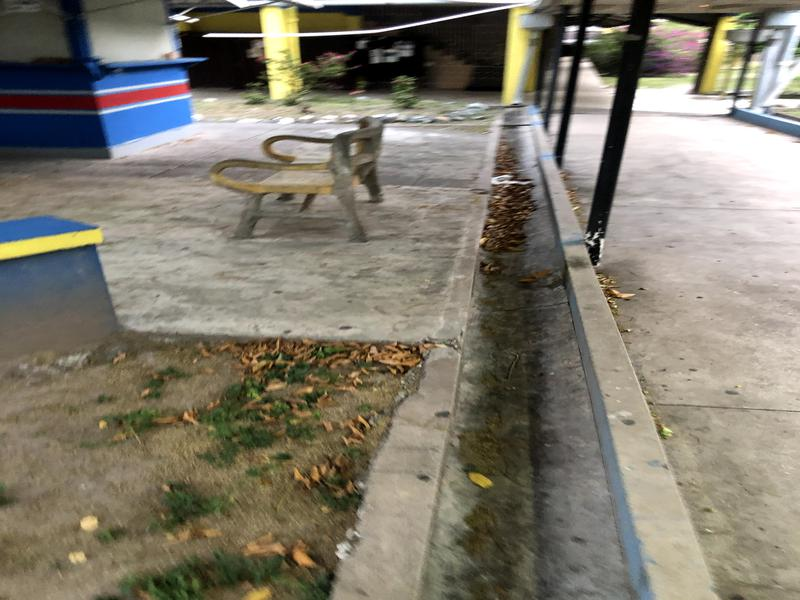18.0050864_-76.7496363_bench: (207, 109, 428, 262)
